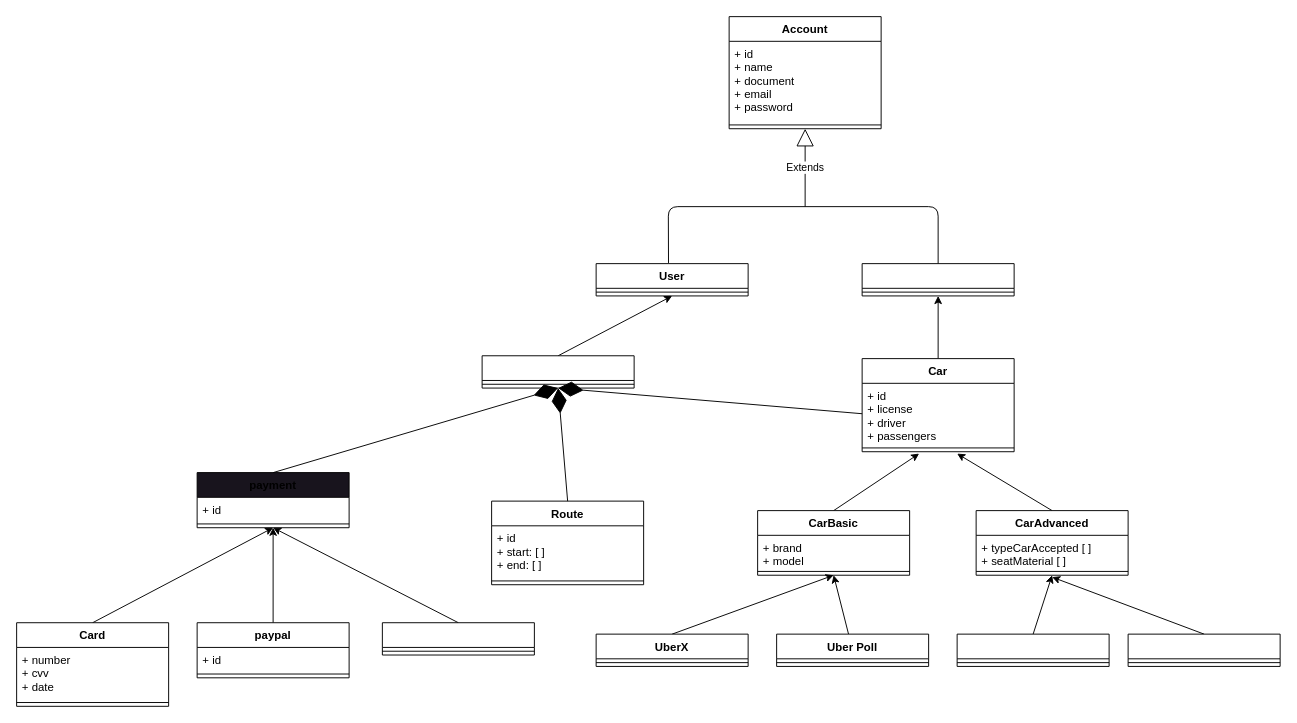
The diagram is 1297 pixels wide and 723 high, and some of its shapes have lost their labels. Each missing label, with the centre of its shape:
cash: pixel 457 638
Driver: pixel 937 279
Trip: pixel 557 371
Uber Black: pixel 1032 649
Uber Van: pixel 1203 649
